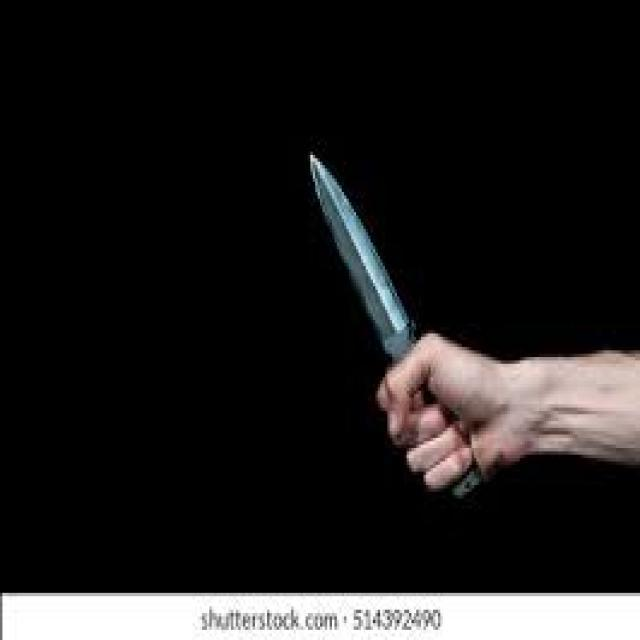faca: (300, 131, 524, 509)
